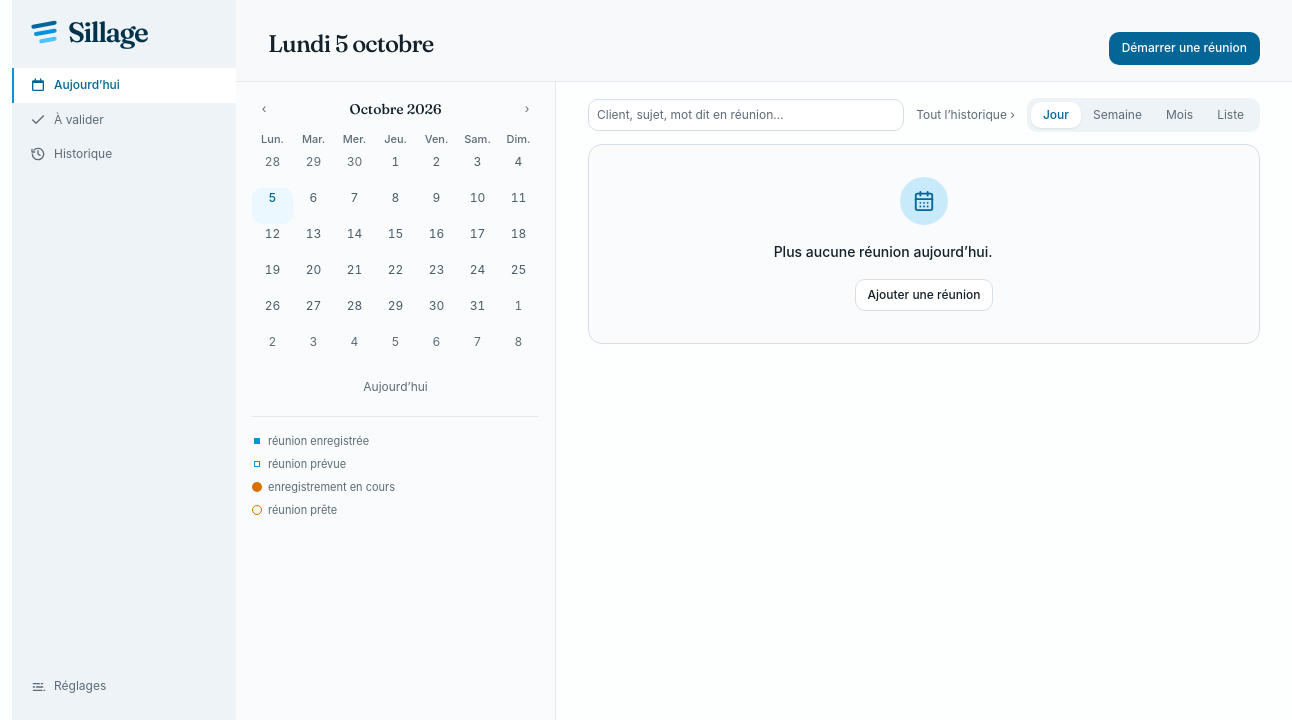
Test: meetings already held are reachable from the calendar › a past meeting is under Passées, with its state
This screenshot has width=1292, height=720.
Check: the element named "Calendrier" is shown, box [252, 98, 539, 519]
Check: the text "Acme — restitution" is not shown
Click the button "Liste": coordinates (1231, 115) [1205, 102, 1256, 128]
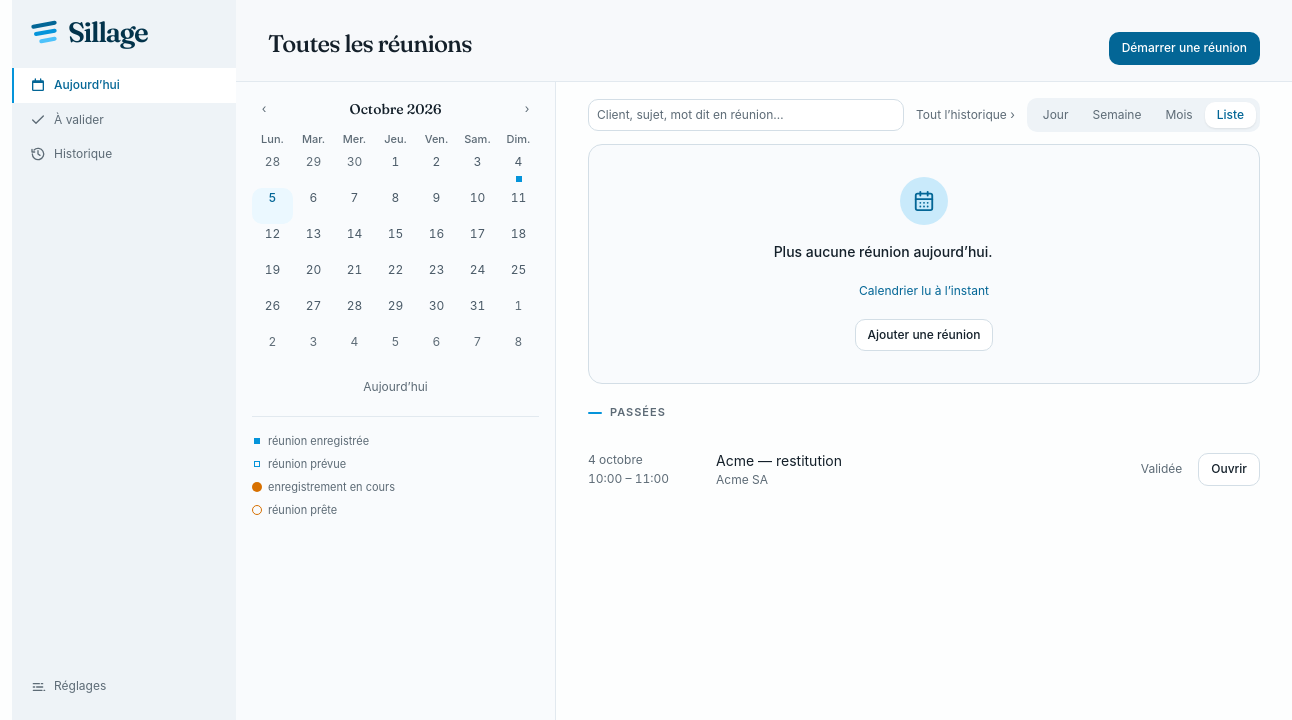
Check: the heading "Passées" is shown, box [610, 406, 666, 420]
Check: the text "Acme — restitution" is shown, box [716, 452, 842, 468]
Check: the text "Validée" is shown, box [1141, 460, 1182, 479]
